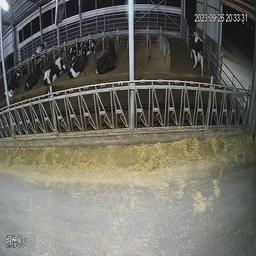cow: (179, 20, 204, 74), (93, 35, 120, 77), (38, 51, 66, 88), (64, 48, 90, 82), (21, 54, 41, 96), (4, 69, 19, 103), (72, 34, 94, 56)
